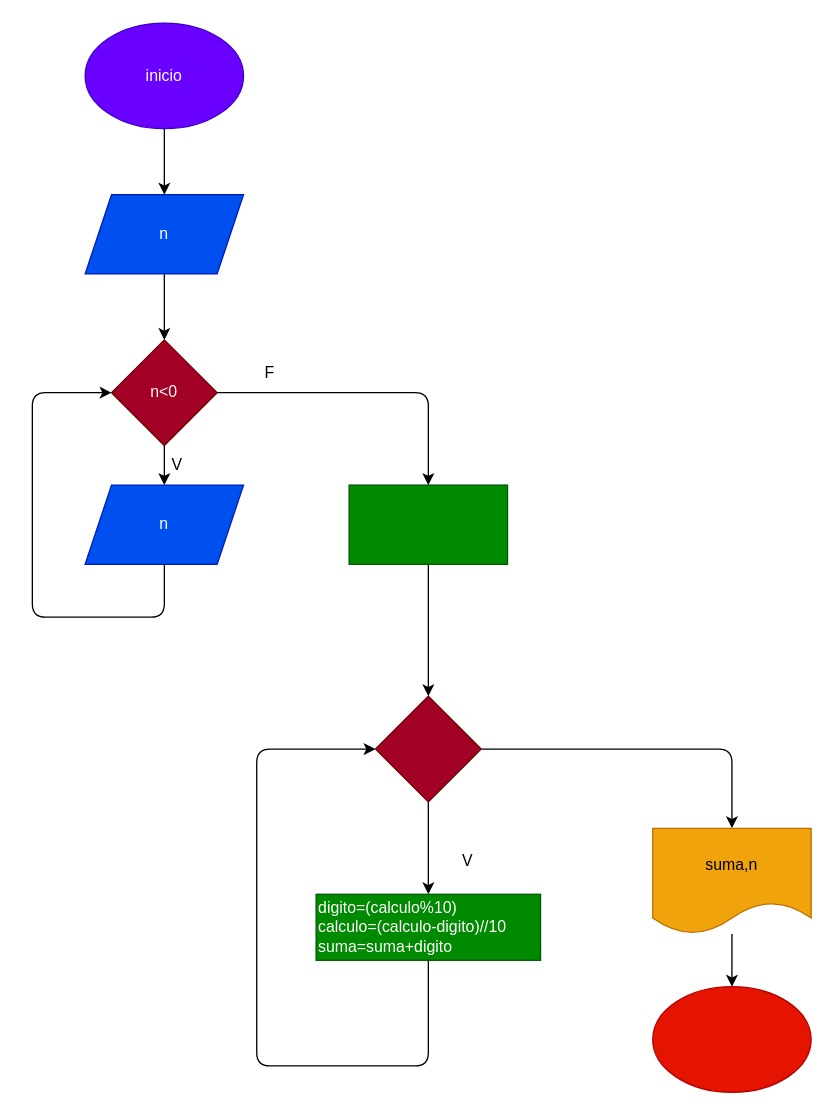
Some shapes in this 834 by 1115 pixel diagram are drawn without their labels. The shapes that lost their labels are listed below. From the top down, each one's box as (x1, y1, x2, y2) in pixels, then its label:
(348, 484, 508, 564): suma=0 claculo=n
(374, 695, 481, 802): calculo != 0
(651, 985, 811, 1092): fin
